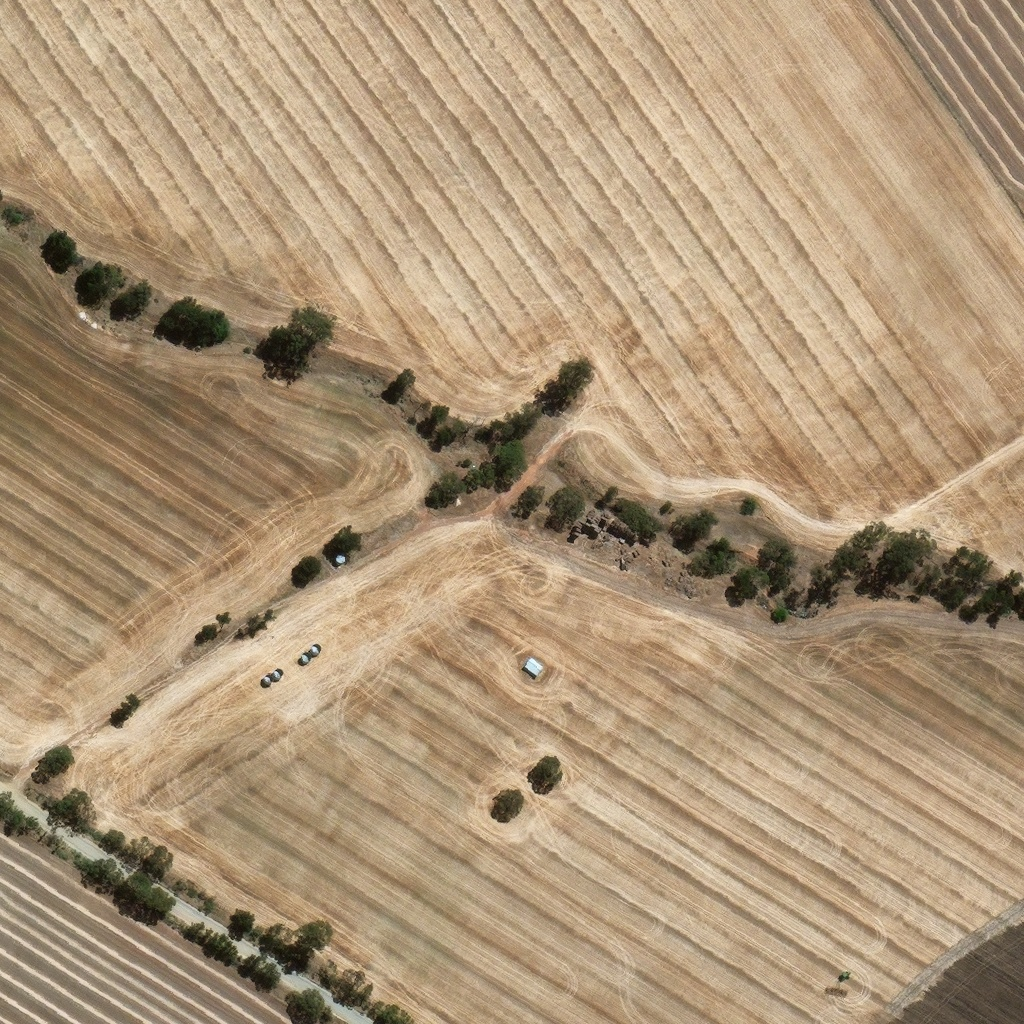0 no-damage: (530, 664, 549, 683)
